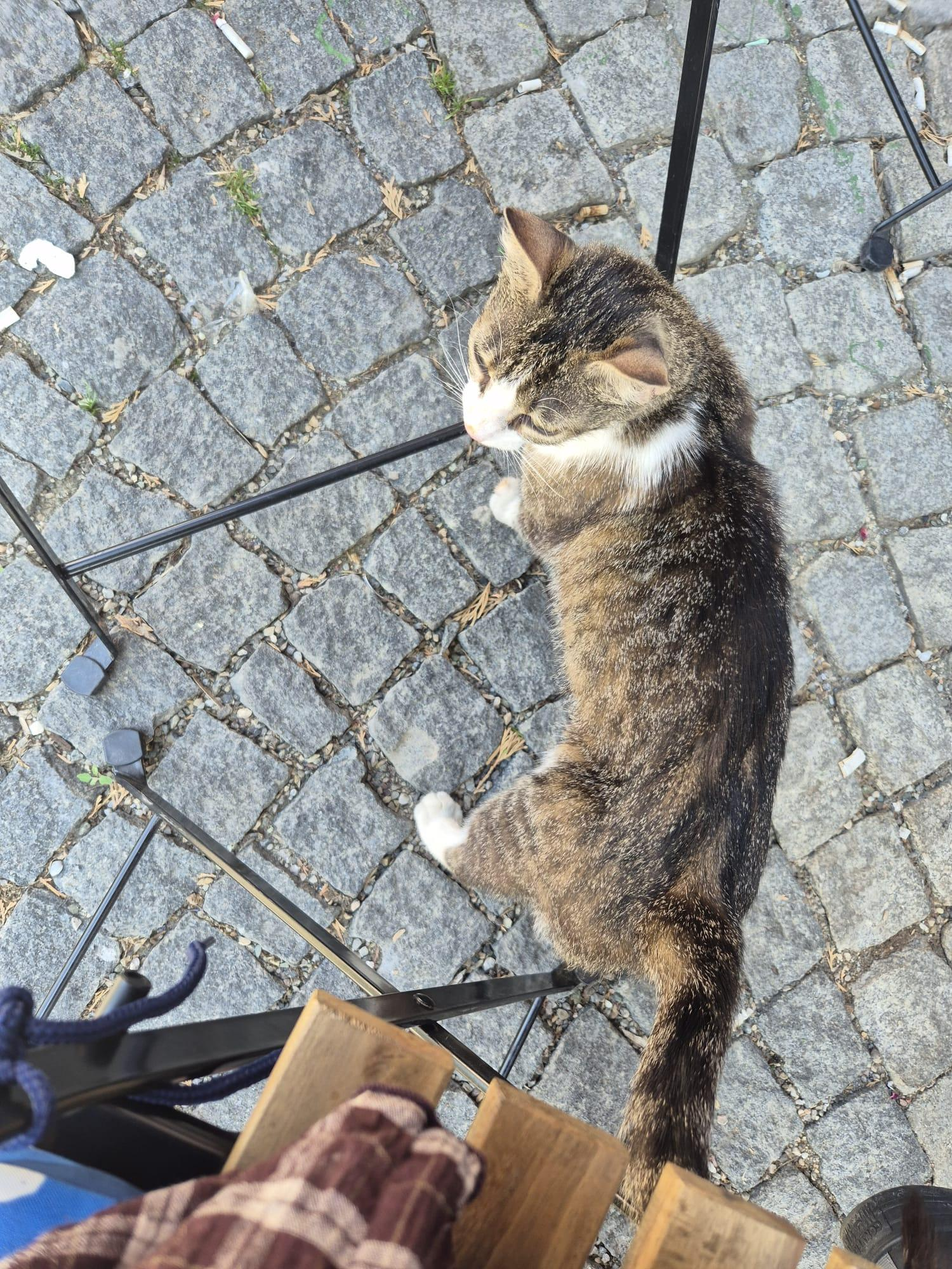macka: (414, 205, 795, 1223)
